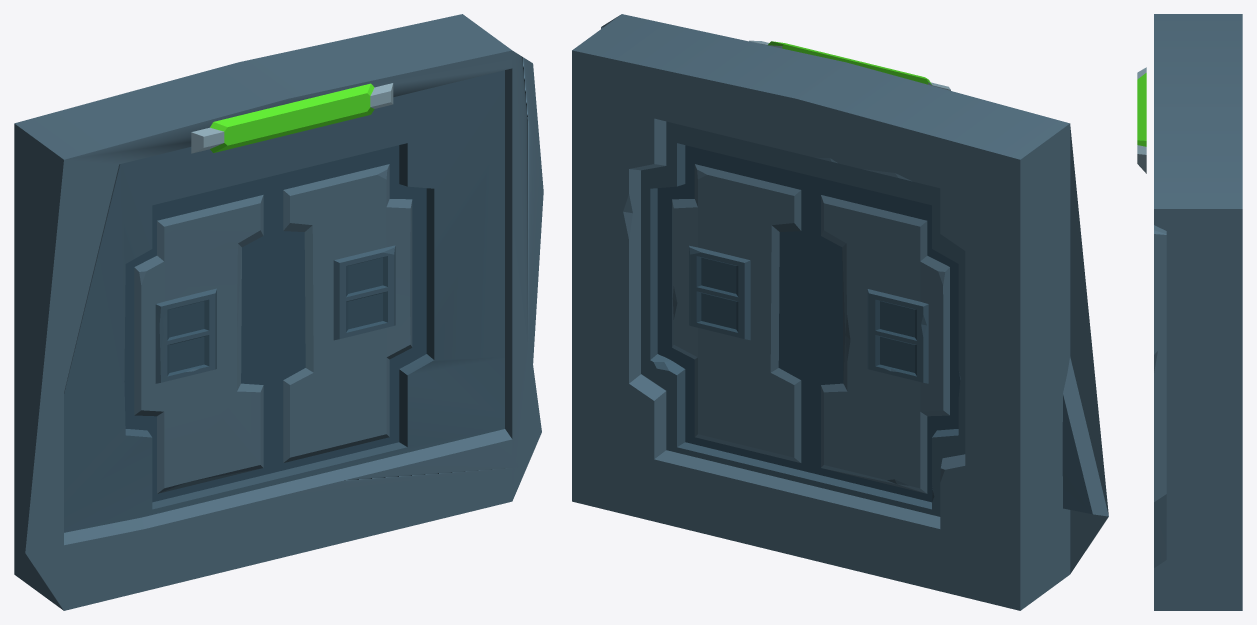
The model's file is PuertaCabinaModif.fbx.
3 renders of one model, left to right at view 1: azimuth 30°, elevation 25°; view 2: azimuth 150°, elevation 25°; view 3: azimuth 270°, elevation 25°, orthographic. The views are drawn at different scales.
Parts seen in each view (by area): view 1: MarcoPuertaModif, PuertaDerModif, PuertaIzqModif, Indicador; view 2: MarcoPuertaModif, PuertaDerModif, PuertaIzqModif, Indicador; view 3: MarcoPuertaModif, Indicador.
Boxes of the visible parts, x1=… form: MarcoPuertaModif: x1=14, y1=14, x2=543, y2=610; PuertaDerModif: x1=273, y1=145, x2=426, y2=472; PuertaIzqModif: x1=124, y1=176, x2=273, y2=502; Indicador: x1=191, y1=83, x2=393, y2=153; MarcoPuertaModif: x1=572, y1=14, x2=1108, y2=610; PuertaDerModif: x1=657, y1=145, x2=810, y2=472; PuertaIzqModif: x1=811, y1=176, x2=960, y2=502; Indicador: x1=749, y1=40, x2=950, y2=90; MarcoPuertaModif: x1=1154, y1=14, x2=1242, y2=610; Indicador: x1=1137, y1=67, x2=1146, y2=173.
Size of the model in its own units: 414 by 349 by 81.68.
